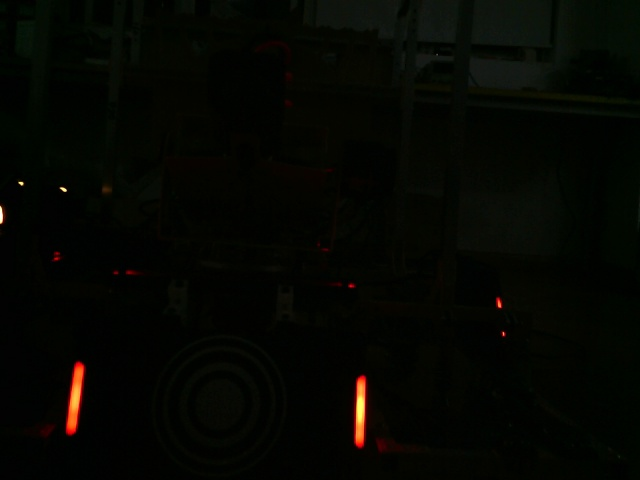lamp: (61, 358, 91, 444), (353, 373, 367, 450)
